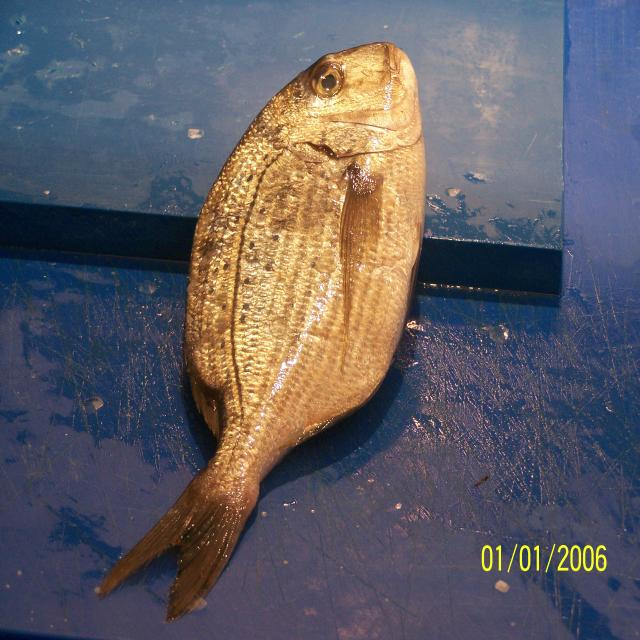Red-Sea-Bream-mercan-: (95, 42, 427, 623)
